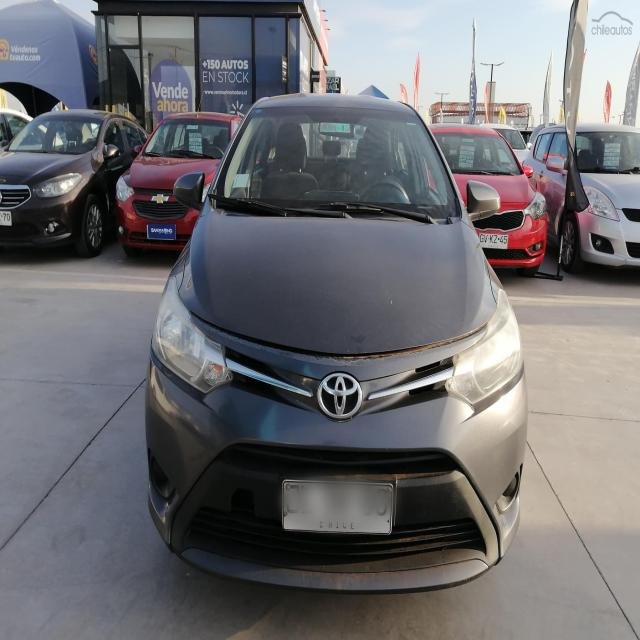patente: (281, 478, 395, 535), (477, 230, 508, 249), (146, 222, 176, 240), (0, 210, 12, 226)
